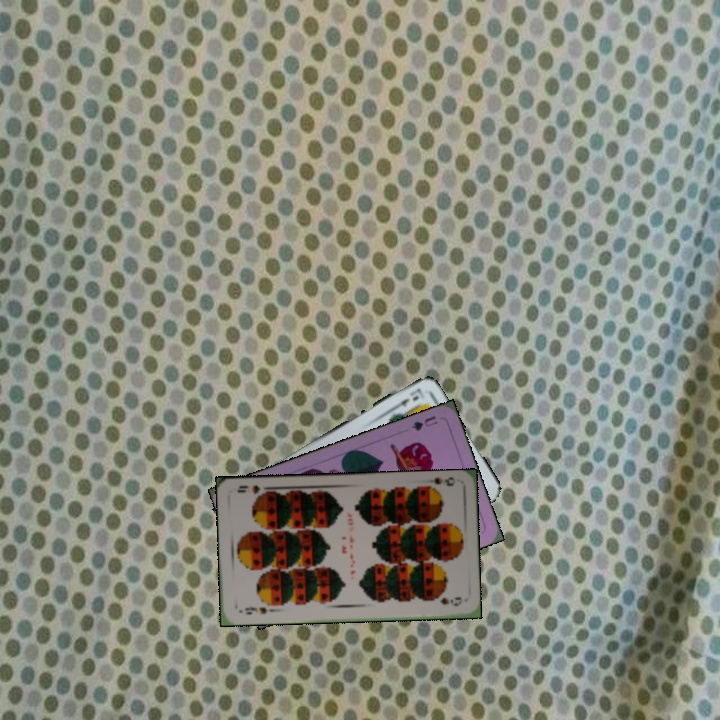EK: (387, 384, 426, 413)
GU: (407, 412, 440, 434)
S9: (420, 473, 456, 494), (241, 602, 270, 617)
